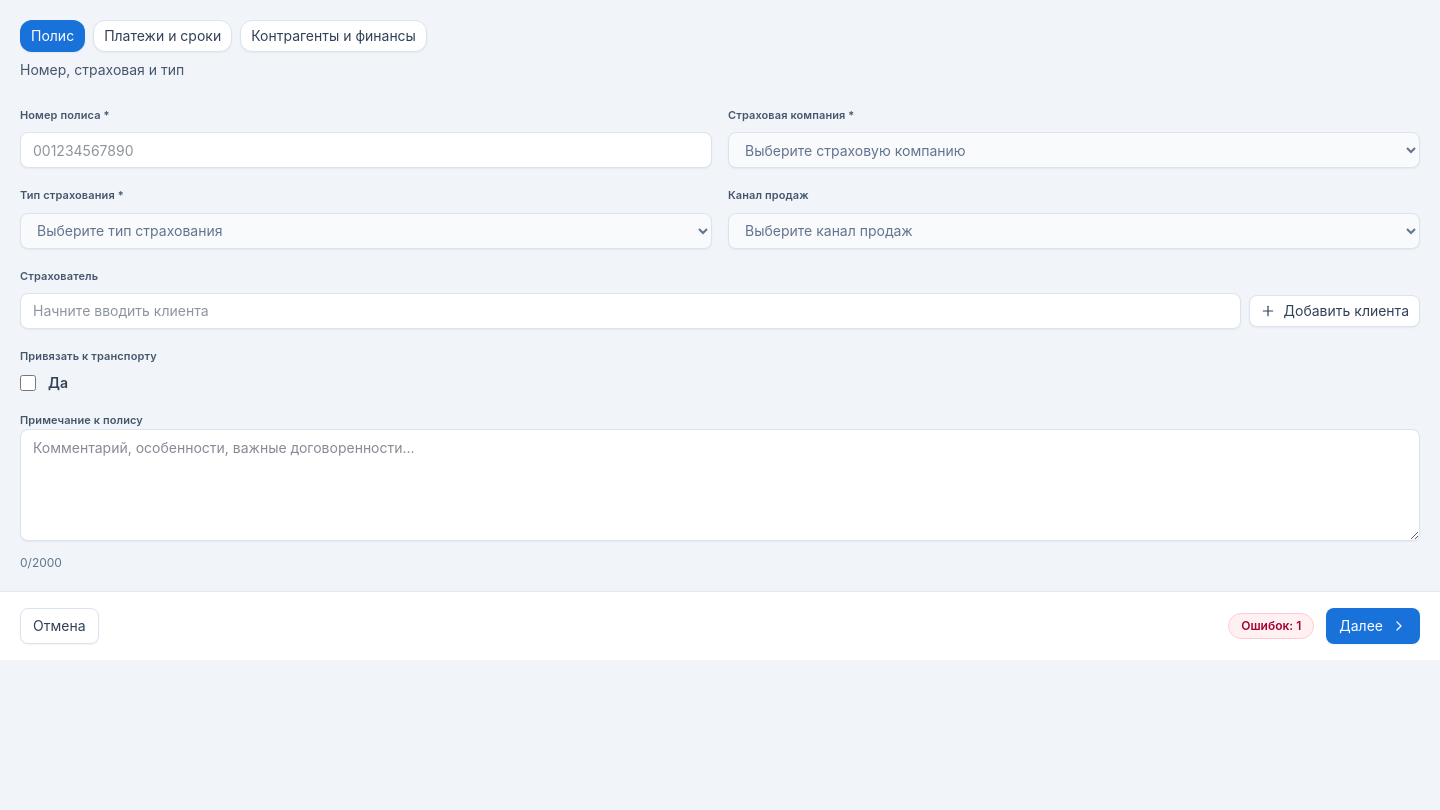
Test case: AddPolicyForm › auto-adds counterparty and executor expenses together in create form drafts
Click the button "Контрагенты и финансы" at point(334, 36), box [240,20,427,52]
(page scrolled)
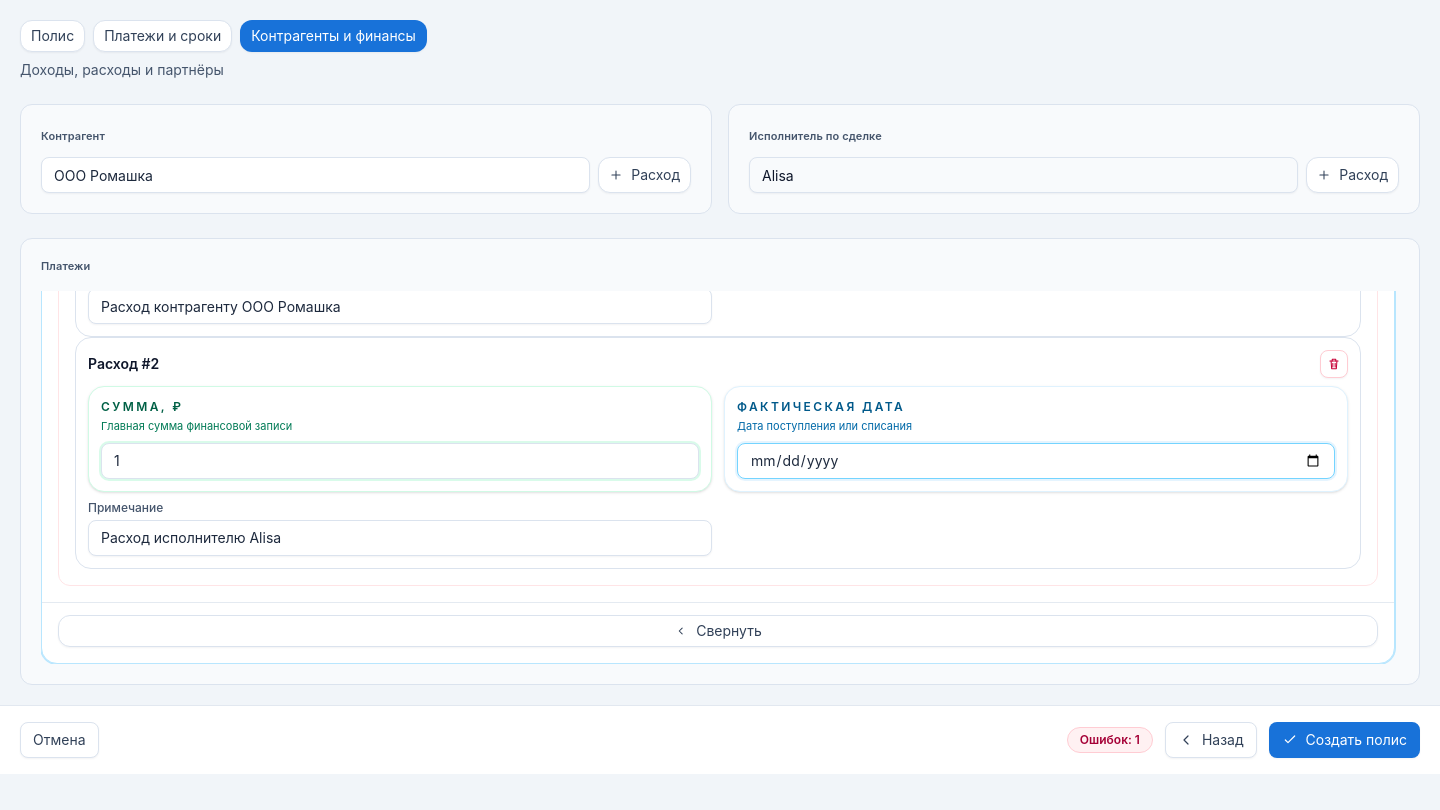
Now the field showing "Расход контрагенту ООО Ромашка" below "Примечание" is shown, box [88,291,712,324]
Now the field showing "Расход исполнителю Alisa" below "Примечание" is shown, box [88,520,712,556]
